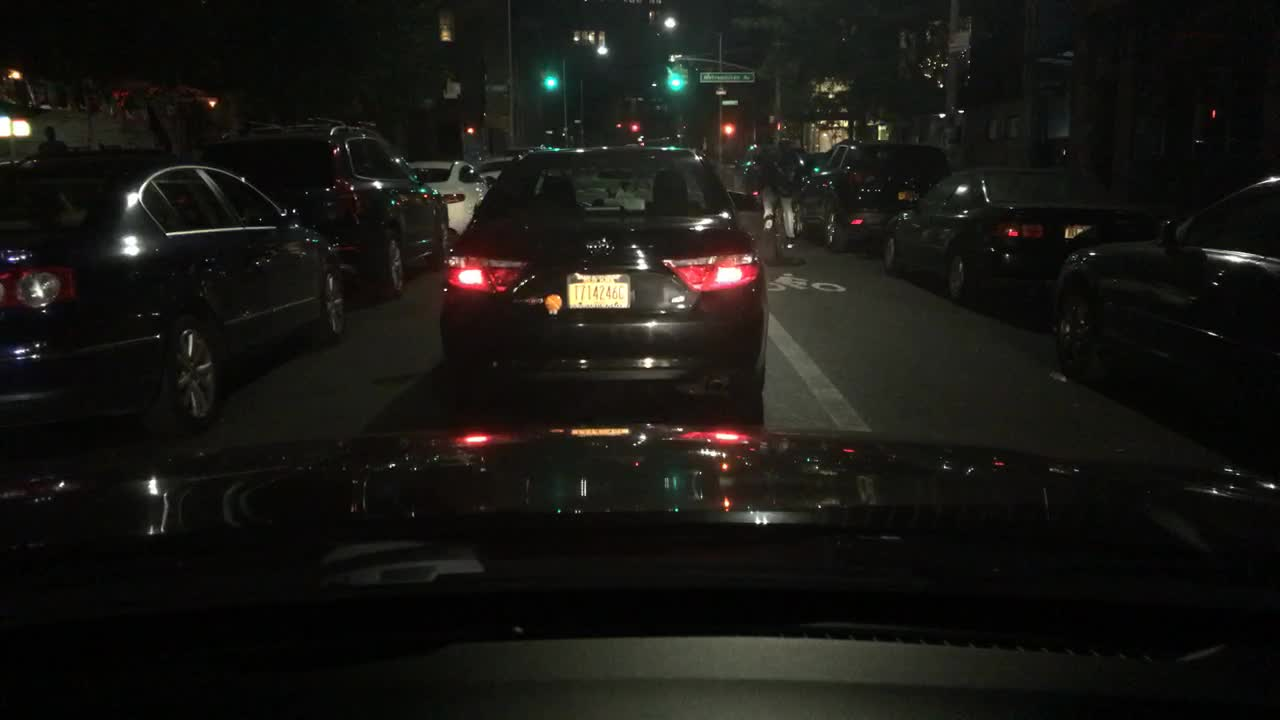bike: (765, 187, 807, 262)
car: (1, 156, 341, 444), (439, 145, 765, 411), (1051, 175, 1279, 383), (196, 123, 446, 299), (883, 165, 1165, 303), (793, 138, 950, 250), (406, 161, 485, 238), (740, 145, 812, 207), (476, 156, 516, 186), (502, 144, 544, 156), (640, 137, 679, 147)
person: (36, 124, 65, 159)
rider: (742, 123, 810, 236)
traffic light: (541, 68, 557, 89), (667, 67, 679, 89), (679, 65, 689, 89), (721, 121, 735, 138), (628, 121, 639, 137), (775, 119, 784, 137), (464, 124, 474, 138)
traffic sign: (698, 68, 756, 82), (483, 77, 511, 95), (719, 96, 740, 107), (712, 88, 730, 96)
